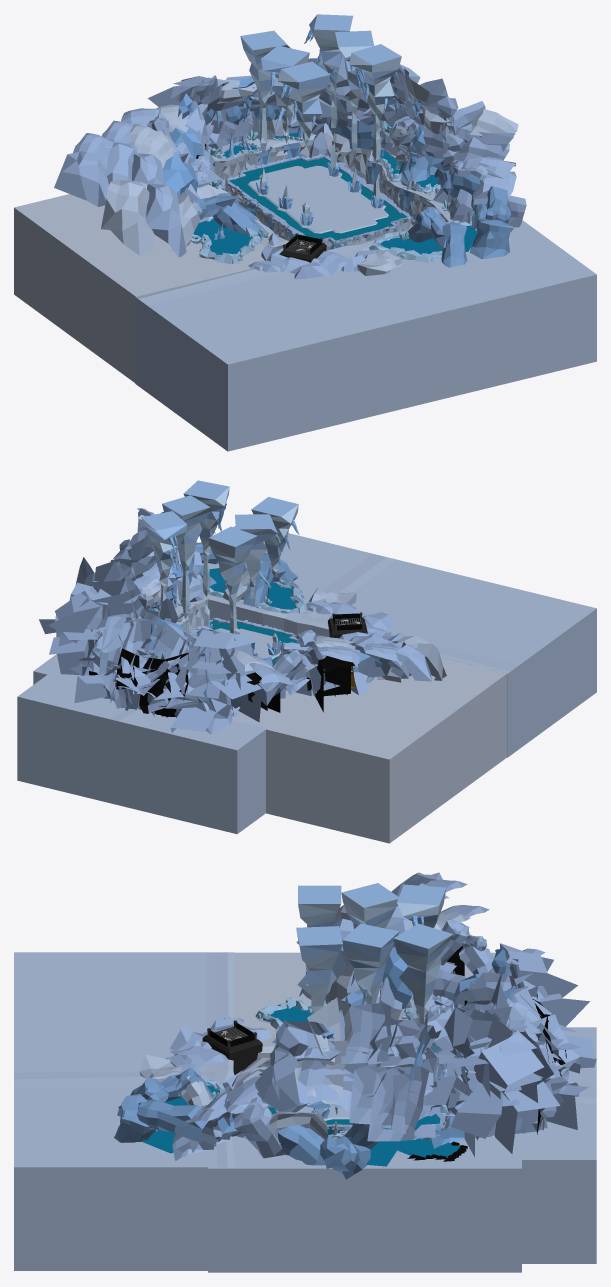
Rendered from hoth_boss_room_low_poly.glb.
3 views of the same model, one above another, from view 1: azimuth 30°, elevation 25°; view 2: azimuth 150°, elevation 25°; view 3: azimuth 270°, elevation 25° (orthographic). The views are drawn at different scales.
Visible parts, largest first — view 1: Walls, Ice_Blocks, Central_Platform, Platforms_Borders, Rock_Borders, IceColumn3, IceColumn, Central_Water, IceColumn5, IceColumn2, IceColumn1, Bordes (+5 smaller); view 2: Walls, Ice_Blocks, IceColumn2, IceColumn5, IceColumn4, IceColumn3, IceColumn, IceColumn1, Rock_Borders, Lateral_Water2, StormTroopersPlatform, Central_Water (+2 smaller); view 3: Walls, Ice_Blocks, IceColumn5, IceColumn3, IceColumn4, IceColumn1, IceColumn2, StormTroopersPlatform, IceColumn, Lateral_Water6, Rock_Borders, Lateral_Water2.
Part boxes in pixels (x1=…): Walls: x1=14, y1=54, x2=596, y2=451; Ice_Blocks: x1=147, y1=114, x2=513, y2=275; Central_Platform: x1=247, y1=165, x2=388, y2=233; Platforms_Borders: x1=214, y1=139, x2=448, y2=250; Rock_Borders: x1=190, y1=120, x2=471, y2=272; IceColumn3: x1=349, y1=44, x2=401, y2=208; IceColumn: x1=278, y1=61, x2=330, y2=225; Central_Water: x1=229, y1=157, x2=406, y2=240; IceColumn5: x1=304, y1=14, x2=353, y2=176; IceColumn2: x1=240, y1=30, x2=290, y2=194; IceColumn1: x1=261, y1=45, x2=309, y2=209; Bordes: x1=225, y1=154, x2=411, y2=244; Walls: x1=17, y1=508, x2=596, y2=843; Ice_Blocks: x1=149, y1=542, x2=356, y2=705; IceColumn2: x1=208, y1=526, x2=257, y2=634; IceColumn5: x1=141, y1=511, x2=187, y2=606; IceColumn4: x1=162, y1=495, x2=212, y2=630; IceColumn3: x1=183, y1=480, x2=229, y2=628; IceColumn: x1=251, y1=497, x2=299, y2=655; IceColumn1: x1=235, y1=514, x2=281, y2=656; Rock_Borders: x1=208, y1=579, x2=374, y2=682; Lateral_Water2: x1=209, y1=568, x2=297, y2=609; StormTroopersPlatform: x1=328, y1=612, x2=367, y2=638; Central_Water: x1=197, y1=620, x2=296, y2=663; Walls: x1=14, y1=872, x2=596, y2=1272; Ice_Blocks: x1=114, y1=919, x2=493, y2=1179; IceColumn5: x1=393, y1=923, x2=453, y2=1024; IceColumn3: x1=296, y1=926, x2=342, y2=1118; IceColumn4: x1=342, y1=923, x2=399, y2=1004; IceColumn1: x1=341, y1=883, x2=400, y2=928; IceColumn2: x1=397, y1=884, x2=446, y2=1023; StormTroopersPlatform: x1=202, y1=1020, x2=262, y2=1074; IceColumn: x1=296, y1=885, x2=341, y2=944; Lateral_Water6: x1=366, y1=1138, x2=459, y2=1166; Rock_Borders: x1=166, y1=997, x2=448, y2=1142; Lateral_Water2: x1=141, y1=1085, x2=218, y2=1153.
Bounding box in the file's own units: 108 × 59.74 × 112.
